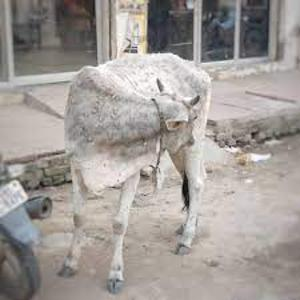lumpy skin diesease: (55, 51, 212, 294)
